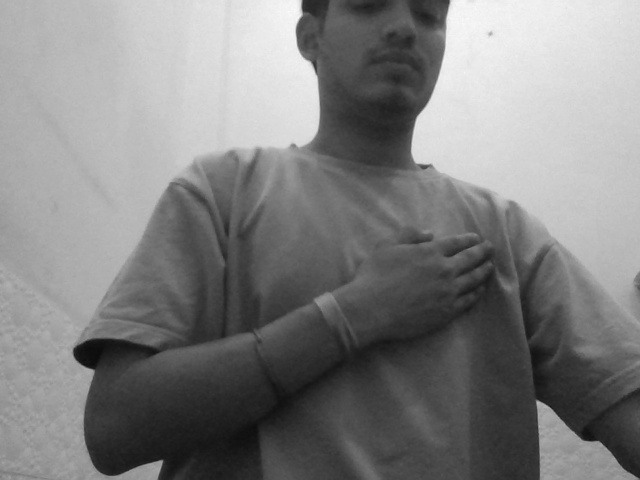Sorry: (343, 212, 574, 352)
